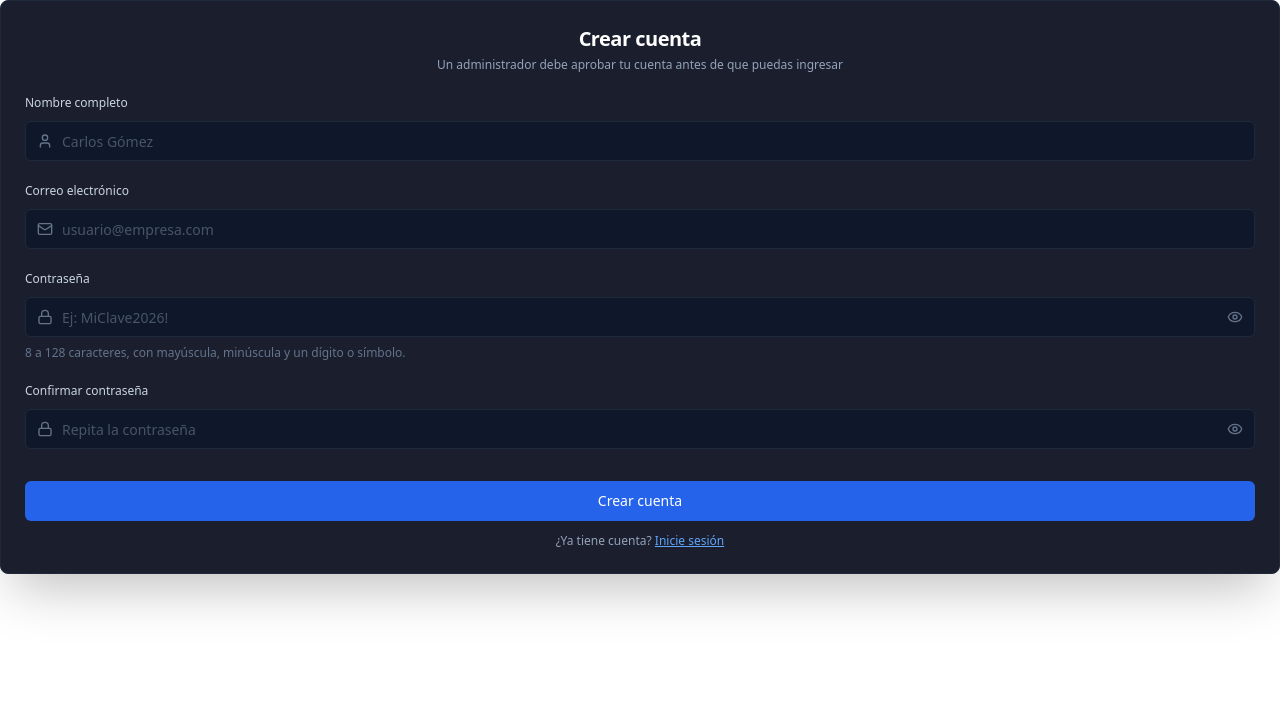
Test: SignupPage › shows pending-approval message on success and creates no session
Type "Nuevo Usuario" into the field labelled "Nombre completo" at (640, 141), box [25,121,1255,161]
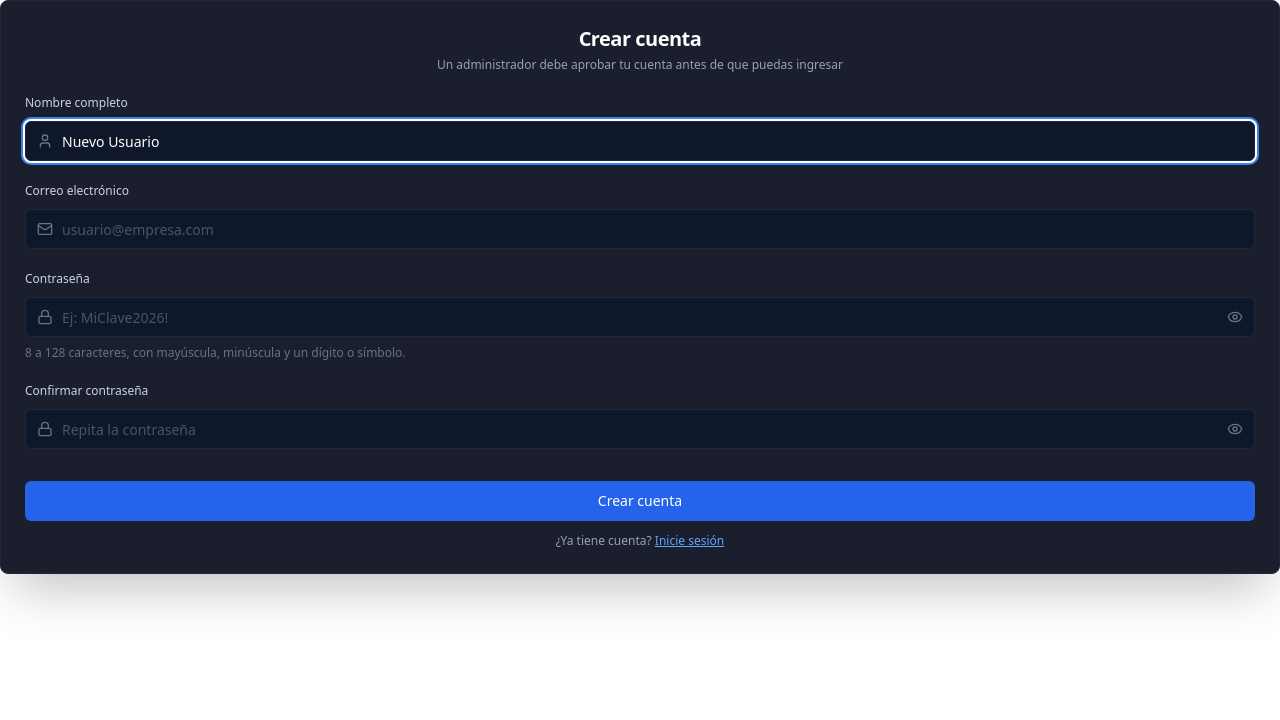
Type "nuevo@erp.com" into the field labelled "Correo electrónico" at (640, 229), box [25,209,1255,249]
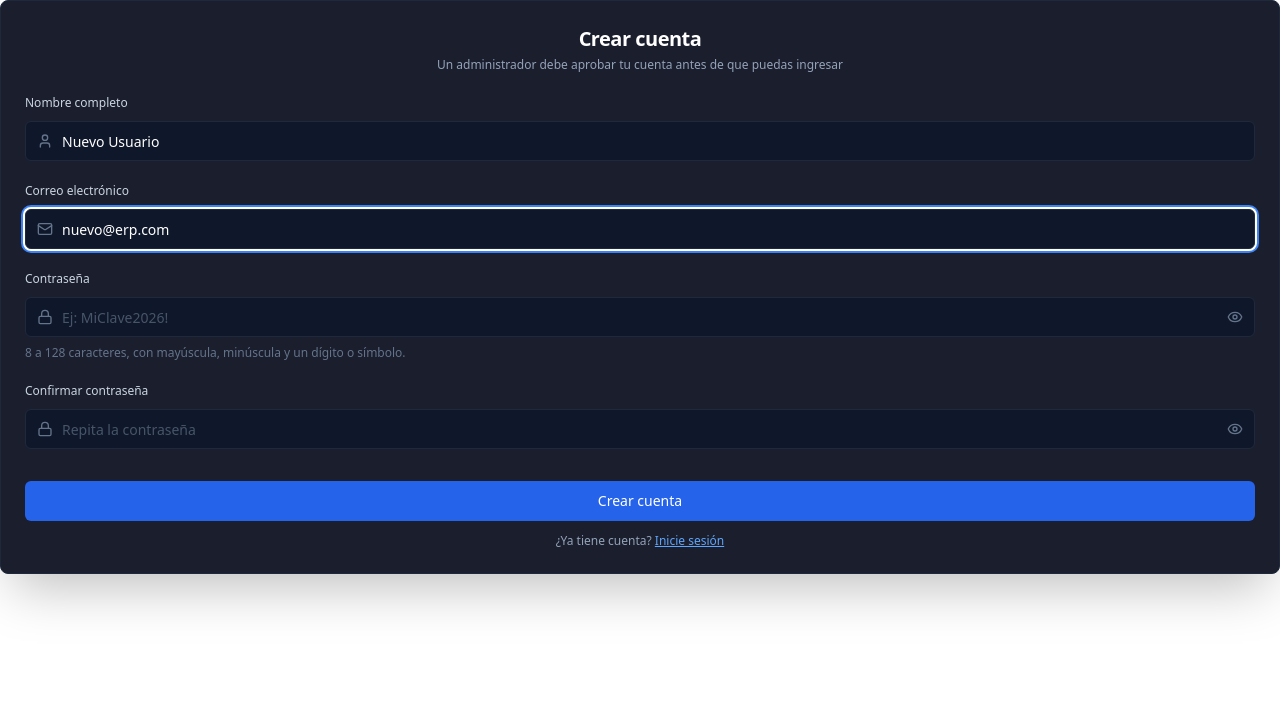
Type "Secret123!" into the password field labelled "Contraseña" at (640, 317), box [25,297,1255,337]
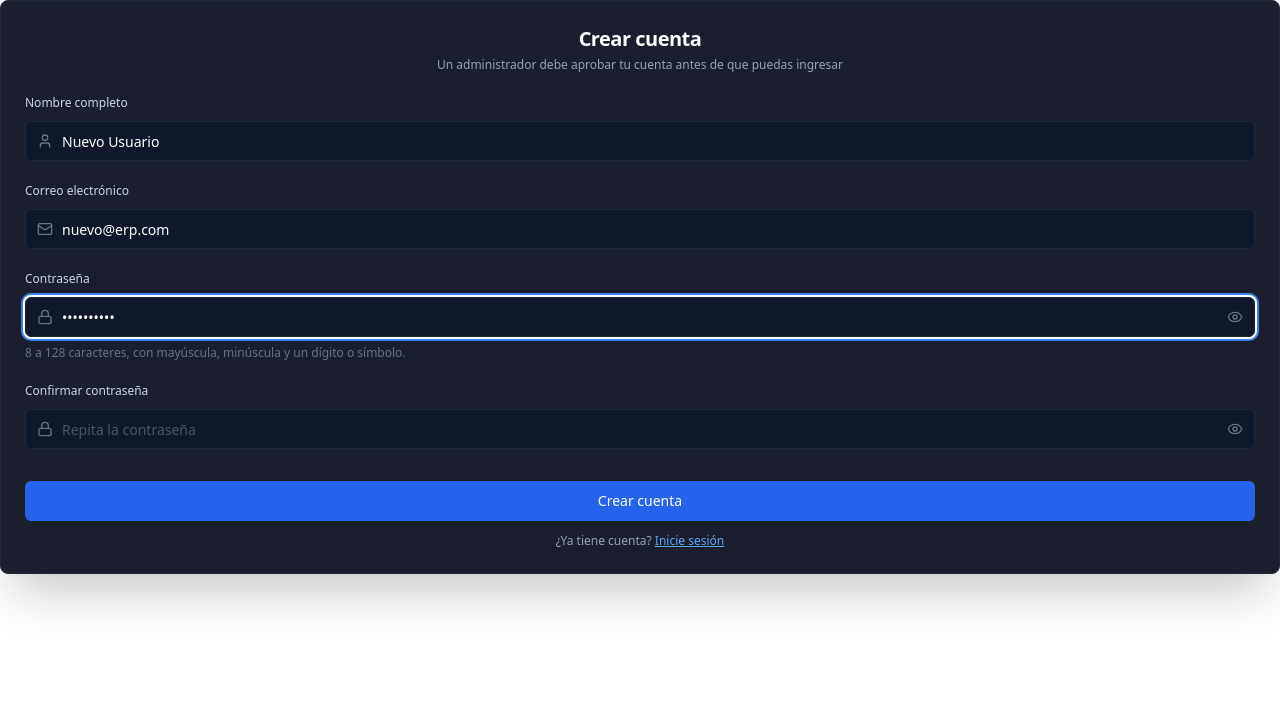
Type "Secret123!" into the password field labelled "Confirmar contraseña" at (640, 429), box [25,409,1255,449]
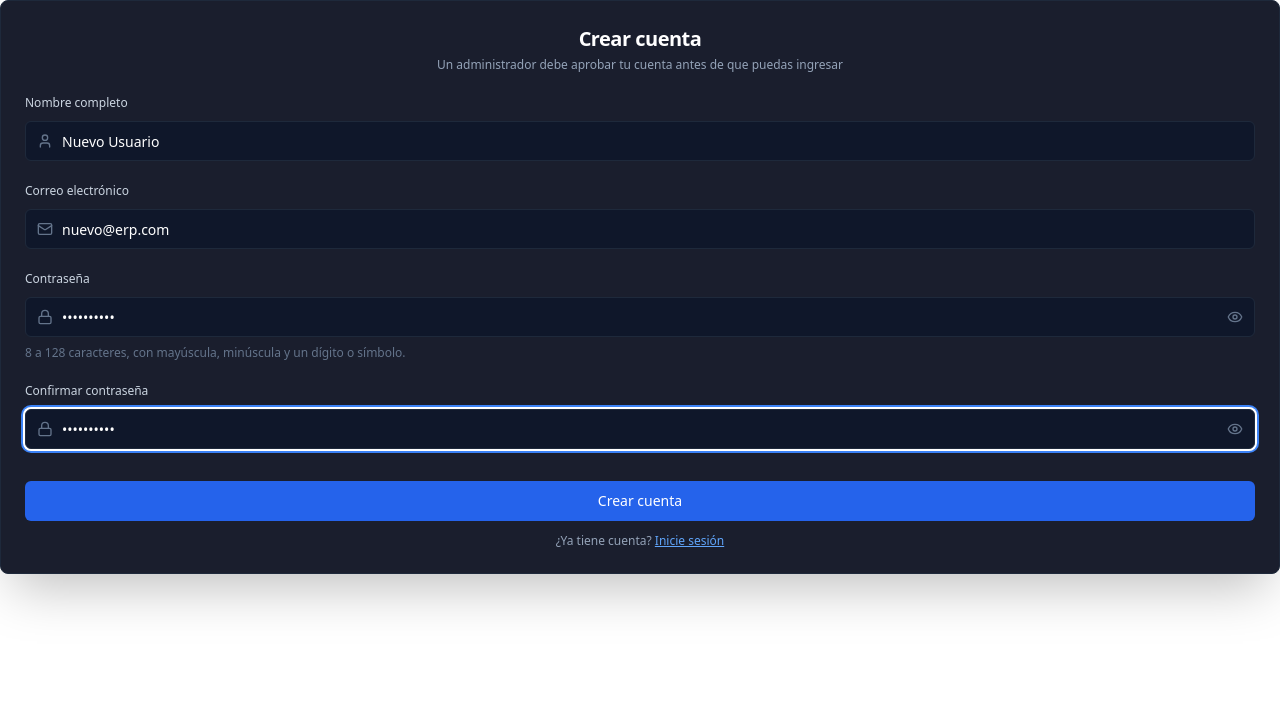
Click the button "Crear cuenta" at (640, 501), box [25,481,1255,521]
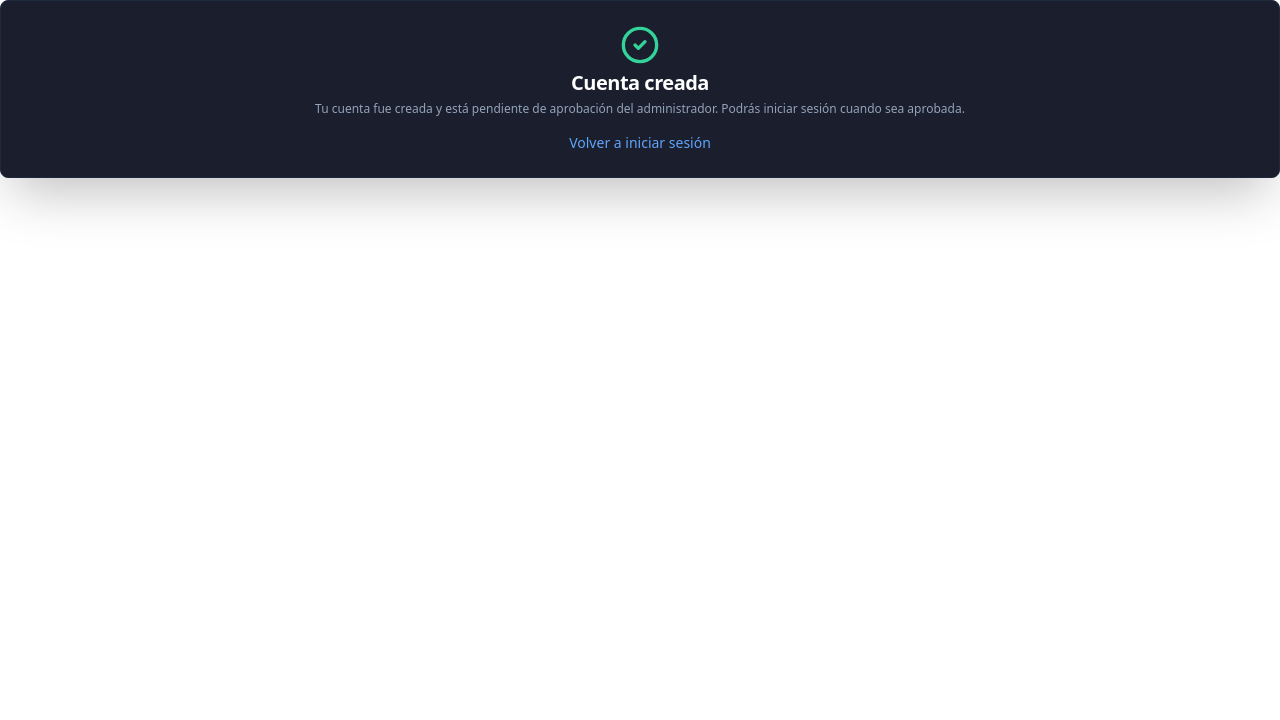
Now the text "pendiente de aprobación" is shown, box [315,100,965,117]
